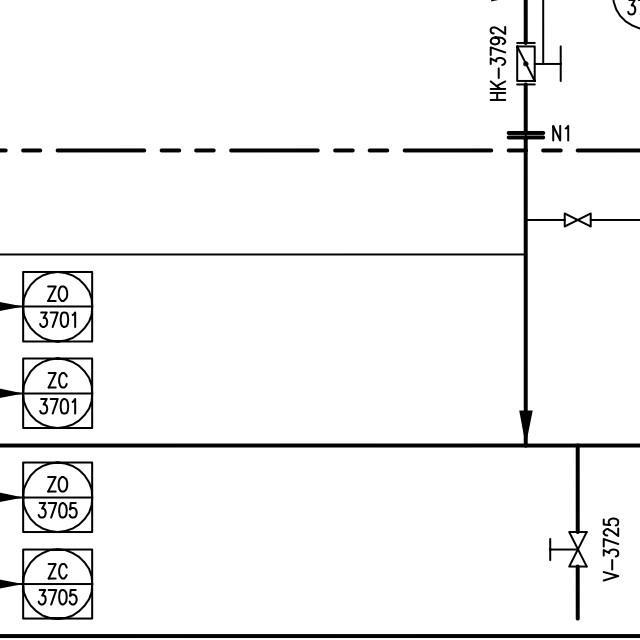BV: (509, 37, 569, 90)
GV: (557, 206, 595, 230)
HV: (542, 525, 590, 571)
